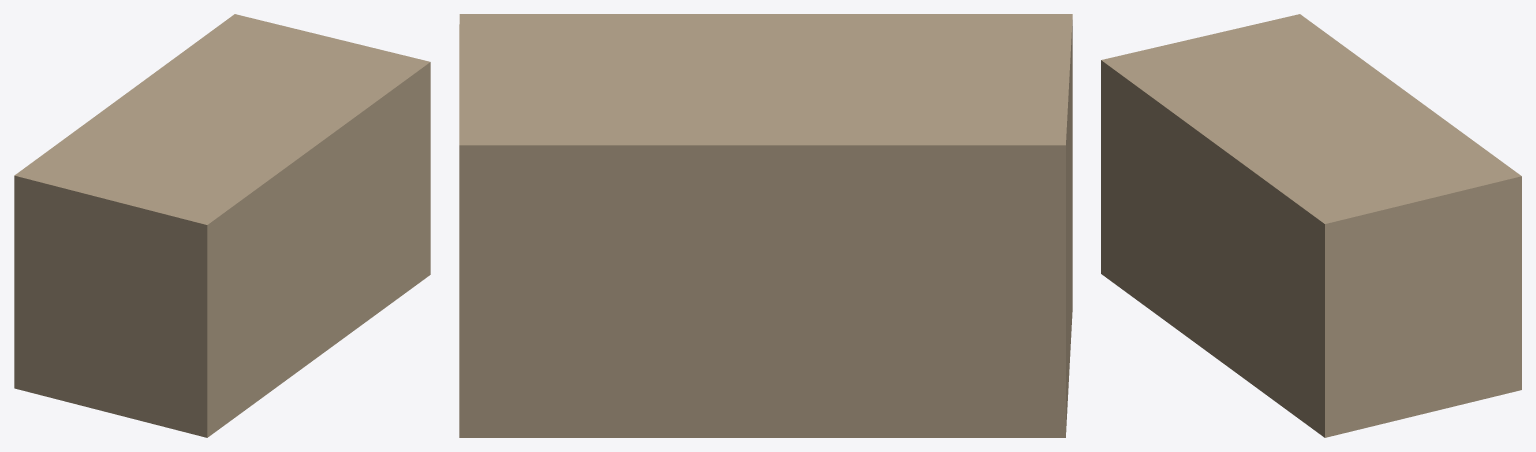
Rendered from bld_101353642.dae.
The picture shows the model from 3 angles, left to right: view 1: azimuth 30°, elevation 25°; view 2: azimuth 150°, elevation 25°; view 3: azimuth 270°, elevation 25°; orthographic projection. The views are drawn at different scales.
Visible parts, largest first — view 1: bld_101353642; view 2: bld_101353642; view 3: bld_101353642.
Boxes of the visible parts, x1,y1,x2,y2 form: bld_101353642: [14, 14, 430, 437]; bld_101353642: [459, 14, 1072, 437]; bld_101353642: [1101, 14, 1521, 437].
Bounding box in the file's own units: 16.86 × 14.27 × 8.
